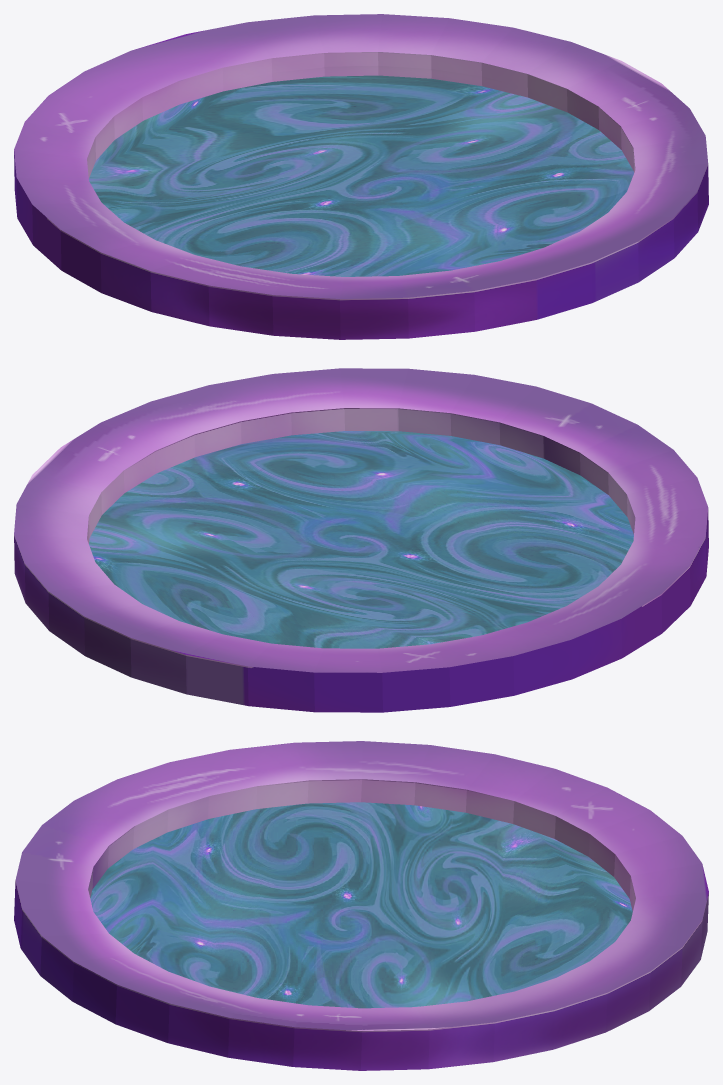
File: kapuyt portal.fbx
3 views of the same model, one above another, from view 1: azimuth 30°, elevation 25°; view 2: azimuth 150°, elevation 25°; view 3: azimuth 270°, elevation 25° (orthographic).
Visible parts, largest first — view 1: Cylinder.005, Plane.005; view 2: Cylinder.005, Plane.005; view 3: Cylinder.005, Plane.005.
Part boxes in pixels (box(x1,y1,x2,y2)): Cylinder.005: box(14, 14, 708, 339); Plane.005: box(88, 75, 633, 276); Cylinder.005: box(14, 368, 708, 712); Plane.005: box(89, 431, 633, 648); Cylinder.005: box(14, 741, 708, 1070); Plane.005: box(90, 802, 632, 1008).
Size of the model in its own units: 4246 by 351 by 4299.
2 materials, 2 textured.
